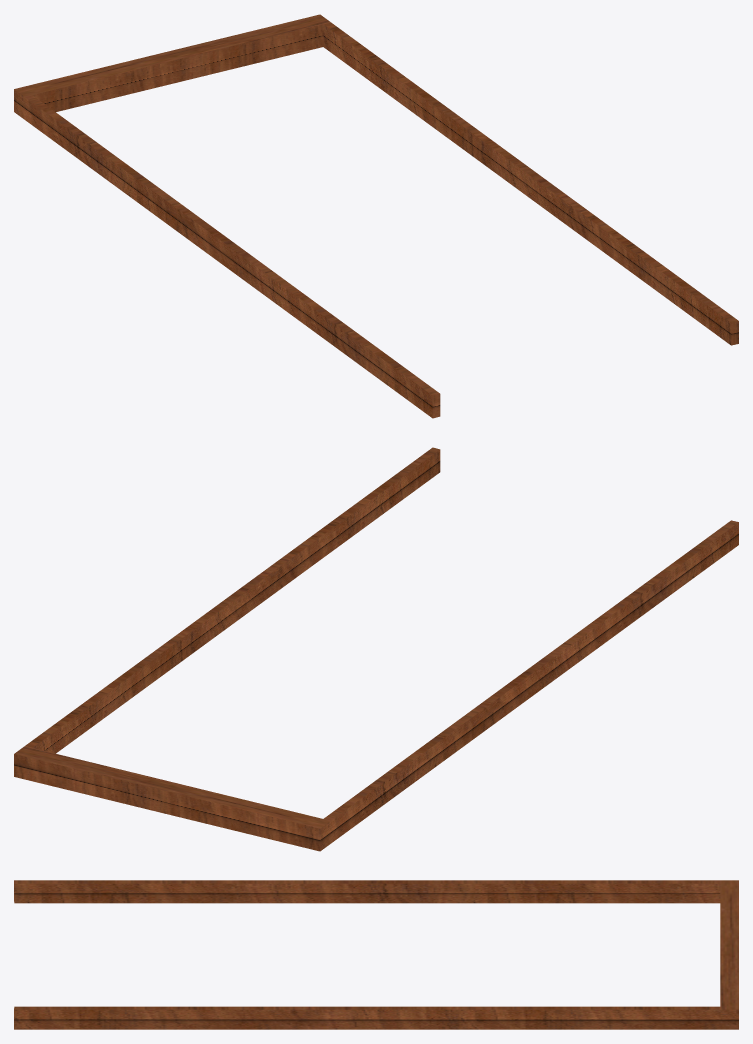
File: door_frame.glb
3 views of the same model, one above another, from view 1: azimuth 30°, elevation 25°; view 2: azimuth 150°, elevation 25°; view 3: azimuth 270°, elevation 25° (orthographic). The views are drawn at different scales.
Visible parts, largest first — view 1: Object_2; view 2: Object_2; view 3: Object_2.
Part boxes in pixels (x1,y1,x2,y2): Object_2: (14, 14, 738, 418); Object_2: (14, 447, 738, 851); Object_2: (14, 880, 738, 1029).
Size of the model in its own units: 42 by 3 by 99.5.
1 material, 1 textured.
